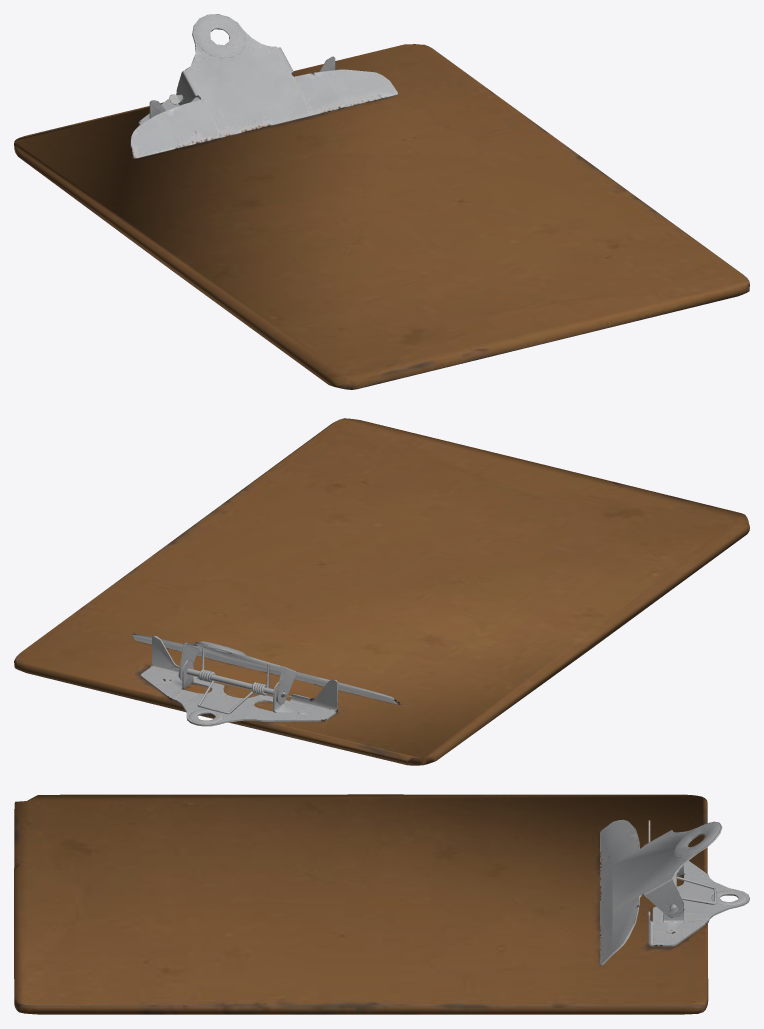
Rendered from clipboard.glb.
The picture shows the model from 3 angles, top to bottom: view 1: azimuth 30°, elevation 25°; view 2: azimuth 150°, elevation 25°; view 3: azimuth 270°, elevation 25°; orthographic projection. The views are drawn at different scales.
Visible parts, largest first — view 1: clipboard; view 2: clipboard; view 3: clipboard.
Boxes of the visible parts, box(x1,y1,x2,y2) form: clipboard: box(14, 14, 749, 389); clipboard: box(14, 418, 749, 765); clipboard: box(14, 794, 749, 1014).
Size of the model in its own units: 0.2284 by 0.042 by 0.3365.
Materials: 1 (1 with a texture image).
